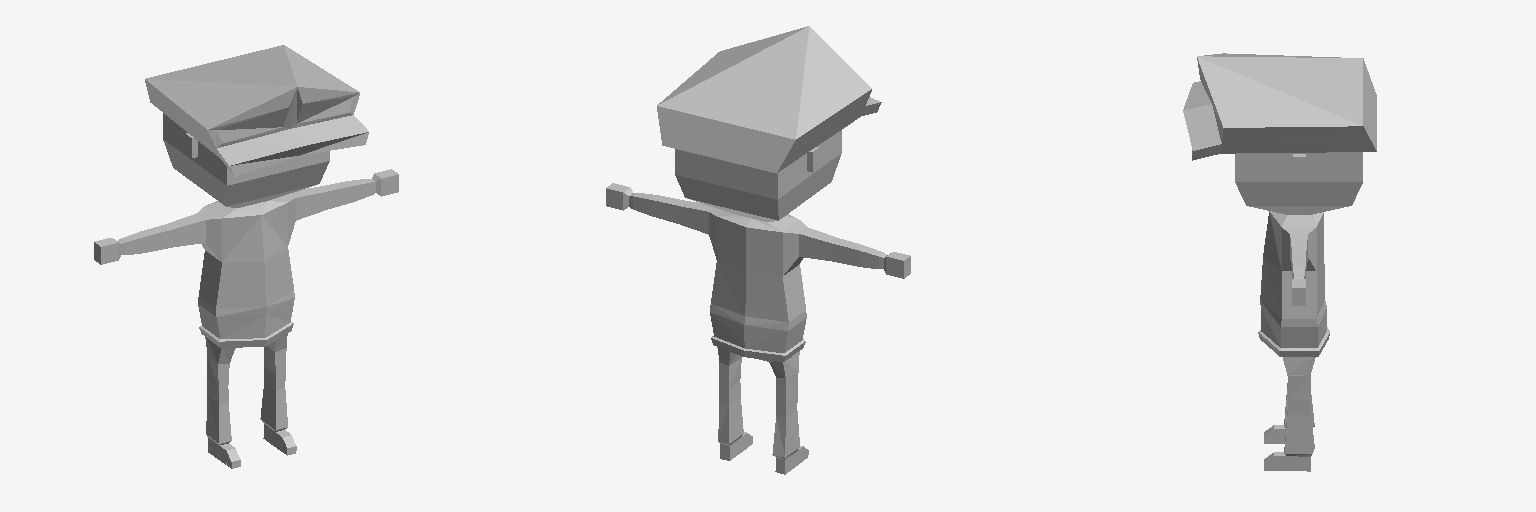
The model's file is police_man.obj.
3 renders of one model, left to right at view 1: azimuth 30°, elevation 25°; view 2: azimuth 150°, elevation 25°; view 3: azimuth 270°, elevation 25°, orthographic.
Parts seen in each view (by area): view 1: Policeman_Cube; view 2: Policeman_Cube; view 3: Policeman_Cube.
Boxes of the visible parts, <box> form: Policeman_Cube: <box>94,45,398,468</box>; Policeman_Cube: <box>606,26,910,474</box>; Policeman_Cube: <box>1183,53,1376,471</box>.
Bounding box in the file's own units: 2.61 × 3.34 × 1.47.